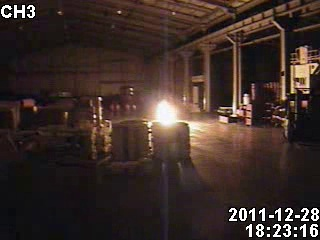fire: (150, 97, 181, 126)
